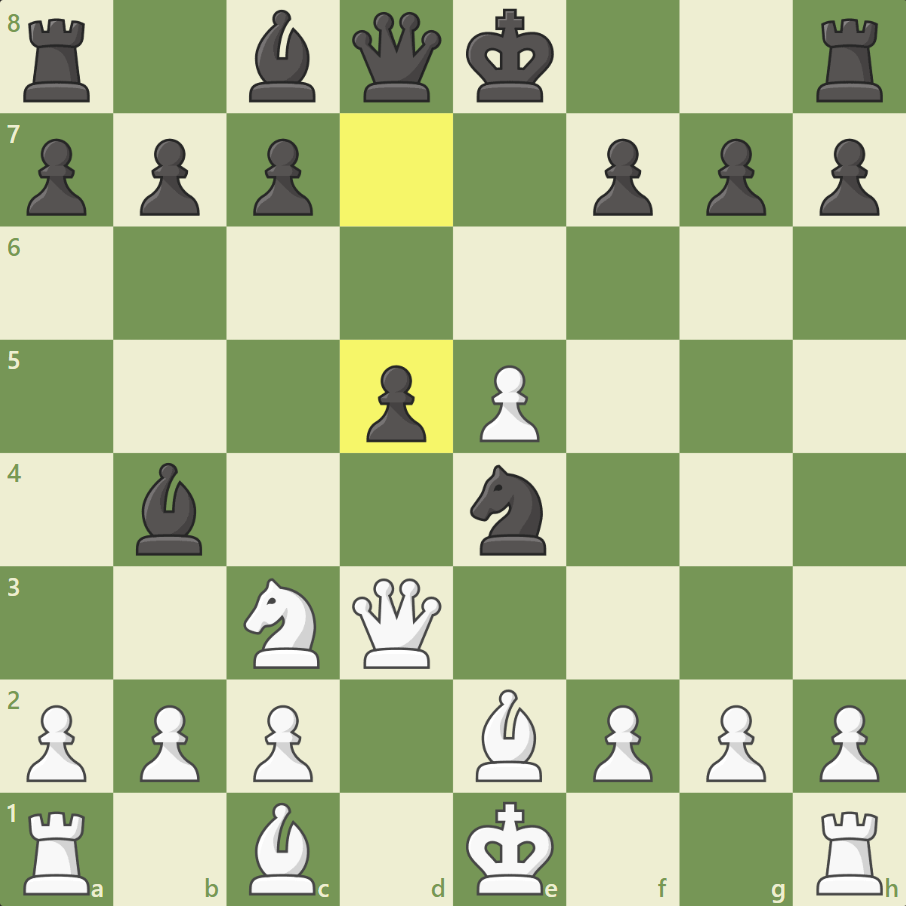B: (473, 686, 545, 784), (247, 800, 317, 897)
K: (464, 800, 557, 897)
N: (243, 576, 322, 671)
P: (476, 362, 544, 445), (22, 702, 89, 786), (133, 701, 200, 785), (250, 701, 317, 785), (587, 700, 654, 784), (700, 700, 767, 784), (814, 700, 881, 784)
Q: (348, 574, 444, 674)
R: (815, 808, 887, 899), (19, 808, 92, 897)
b: (243, 5, 321, 108), (132, 460, 206, 560)
k: (463, 6, 555, 108)
n: (466, 464, 553, 561)
p: (363, 361, 431, 449), (249, 132, 317, 220), (135, 133, 203, 221), (22, 133, 90, 221), (589, 133, 657, 221), (701, 133, 769, 221), (816, 131, 884, 219)
q: (348, 8, 441, 106)
r: (811, 13, 888, 106), (20, 12, 95, 106)
